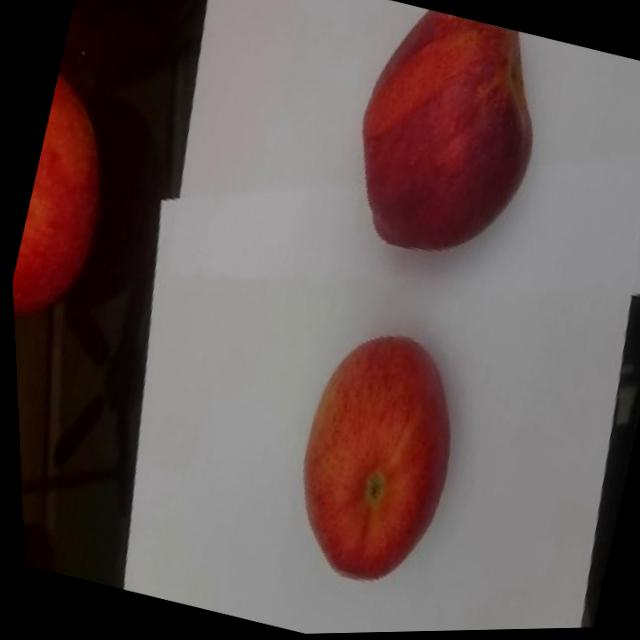Apple: (328, 0, 565, 278), (267, 317, 480, 599), (3, 71, 136, 332)
